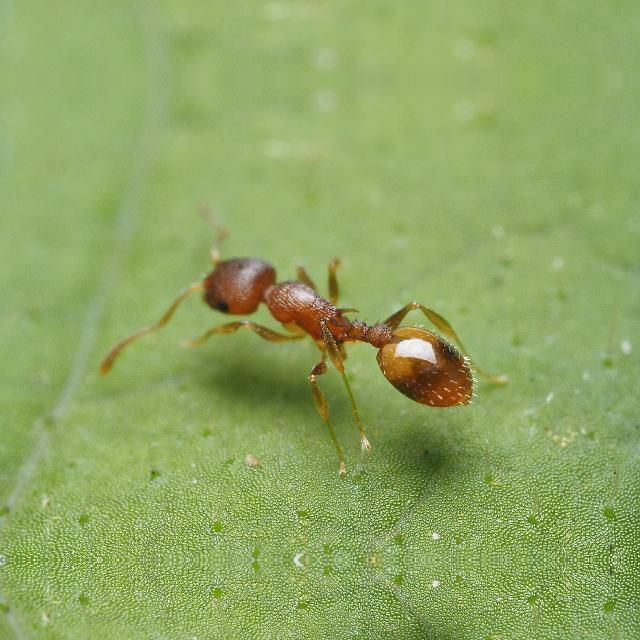Temnothorax: (160, 205, 518, 445)
